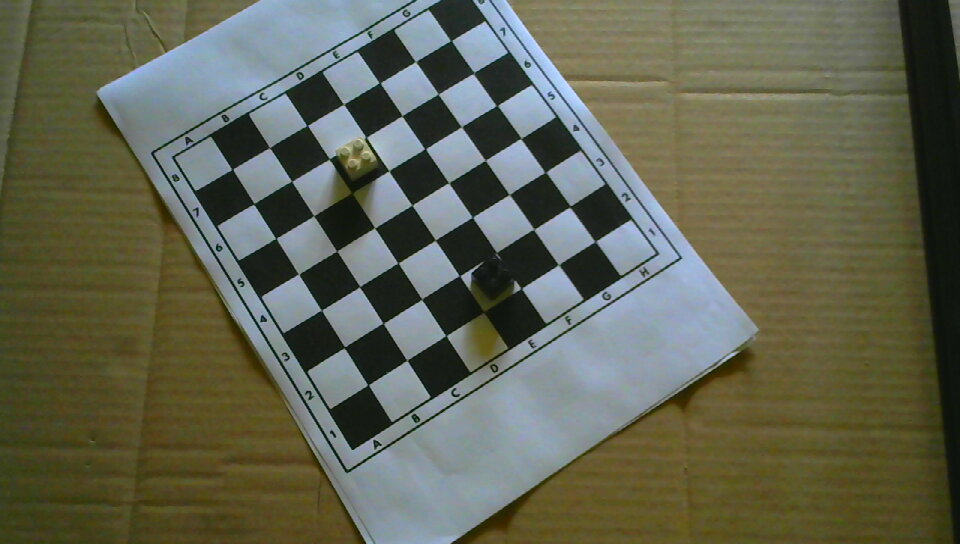bp: (471, 254, 516, 302)
wp: (335, 136, 378, 181)
